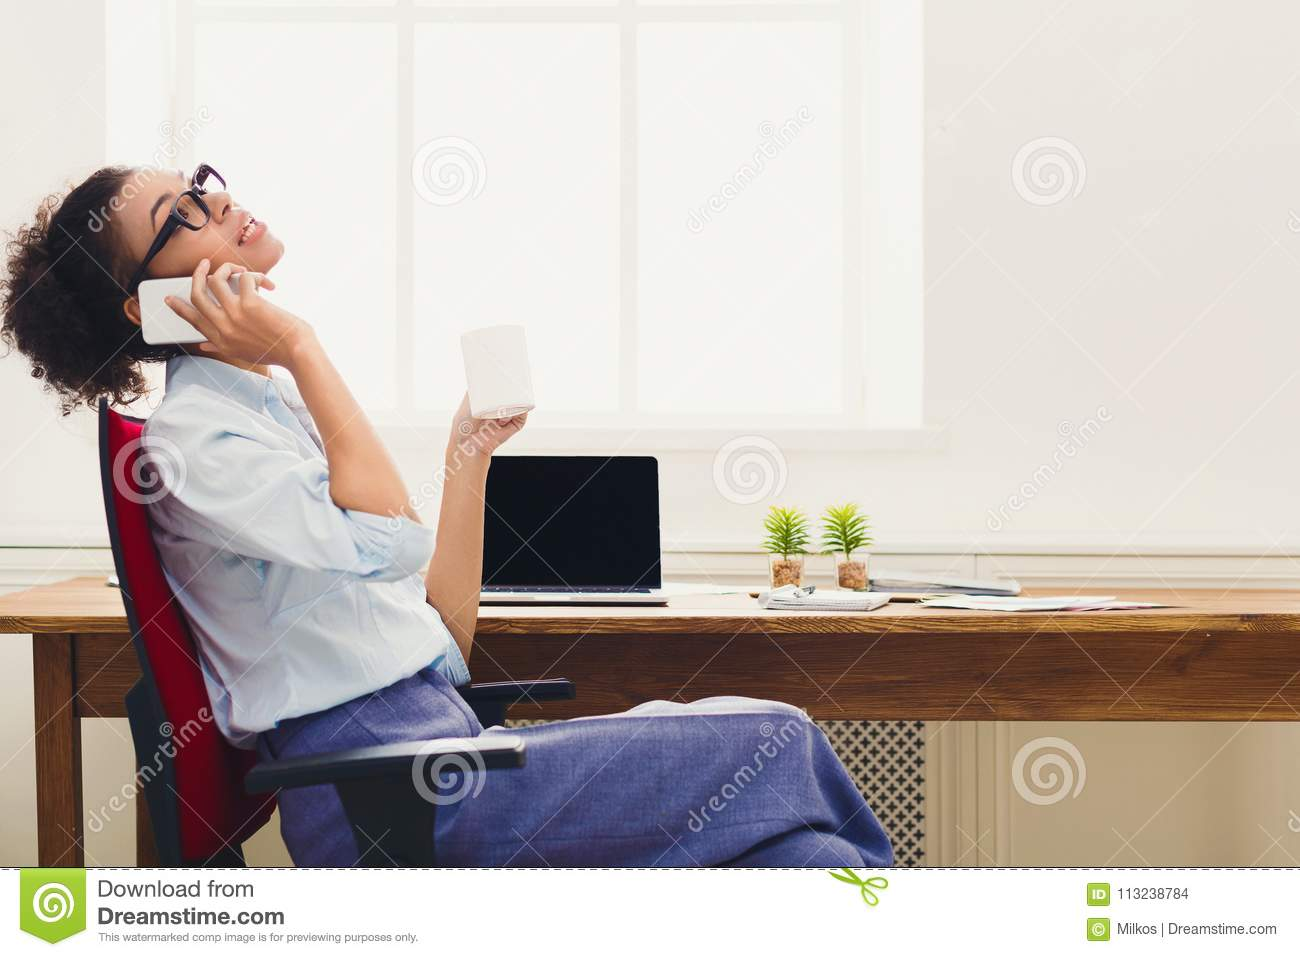phone: (137, 274, 260, 347)
talk: (133, 162, 312, 376)
